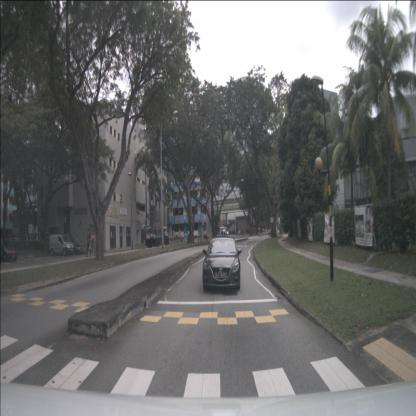human-pedestrian-adult: (86, 228, 92, 258), (91, 229, 96, 257), (0, 235, 4, 269), (12, 238, 16, 259), (46, 241, 50, 256), (41, 238, 44, 252), (39, 239, 42, 252), (205, 230, 208, 241), (267, 228, 270, 238), (203, 230, 205, 242), (256, 228, 259, 236), (180, 234, 182, 243), (225, 230, 227, 238), (241, 229, 243, 237), (238, 229, 240, 237), (240, 229, 242, 237), (222, 231, 224, 238), (224, 231, 225, 239), (220, 230, 221, 238)
vehicle-car: (203, 236, 240, 292), (49, 234, 74, 256), (0, 240, 18, 262), (65, 240, 83, 255)
vehicle-truck: (144, 226, 169, 248)
